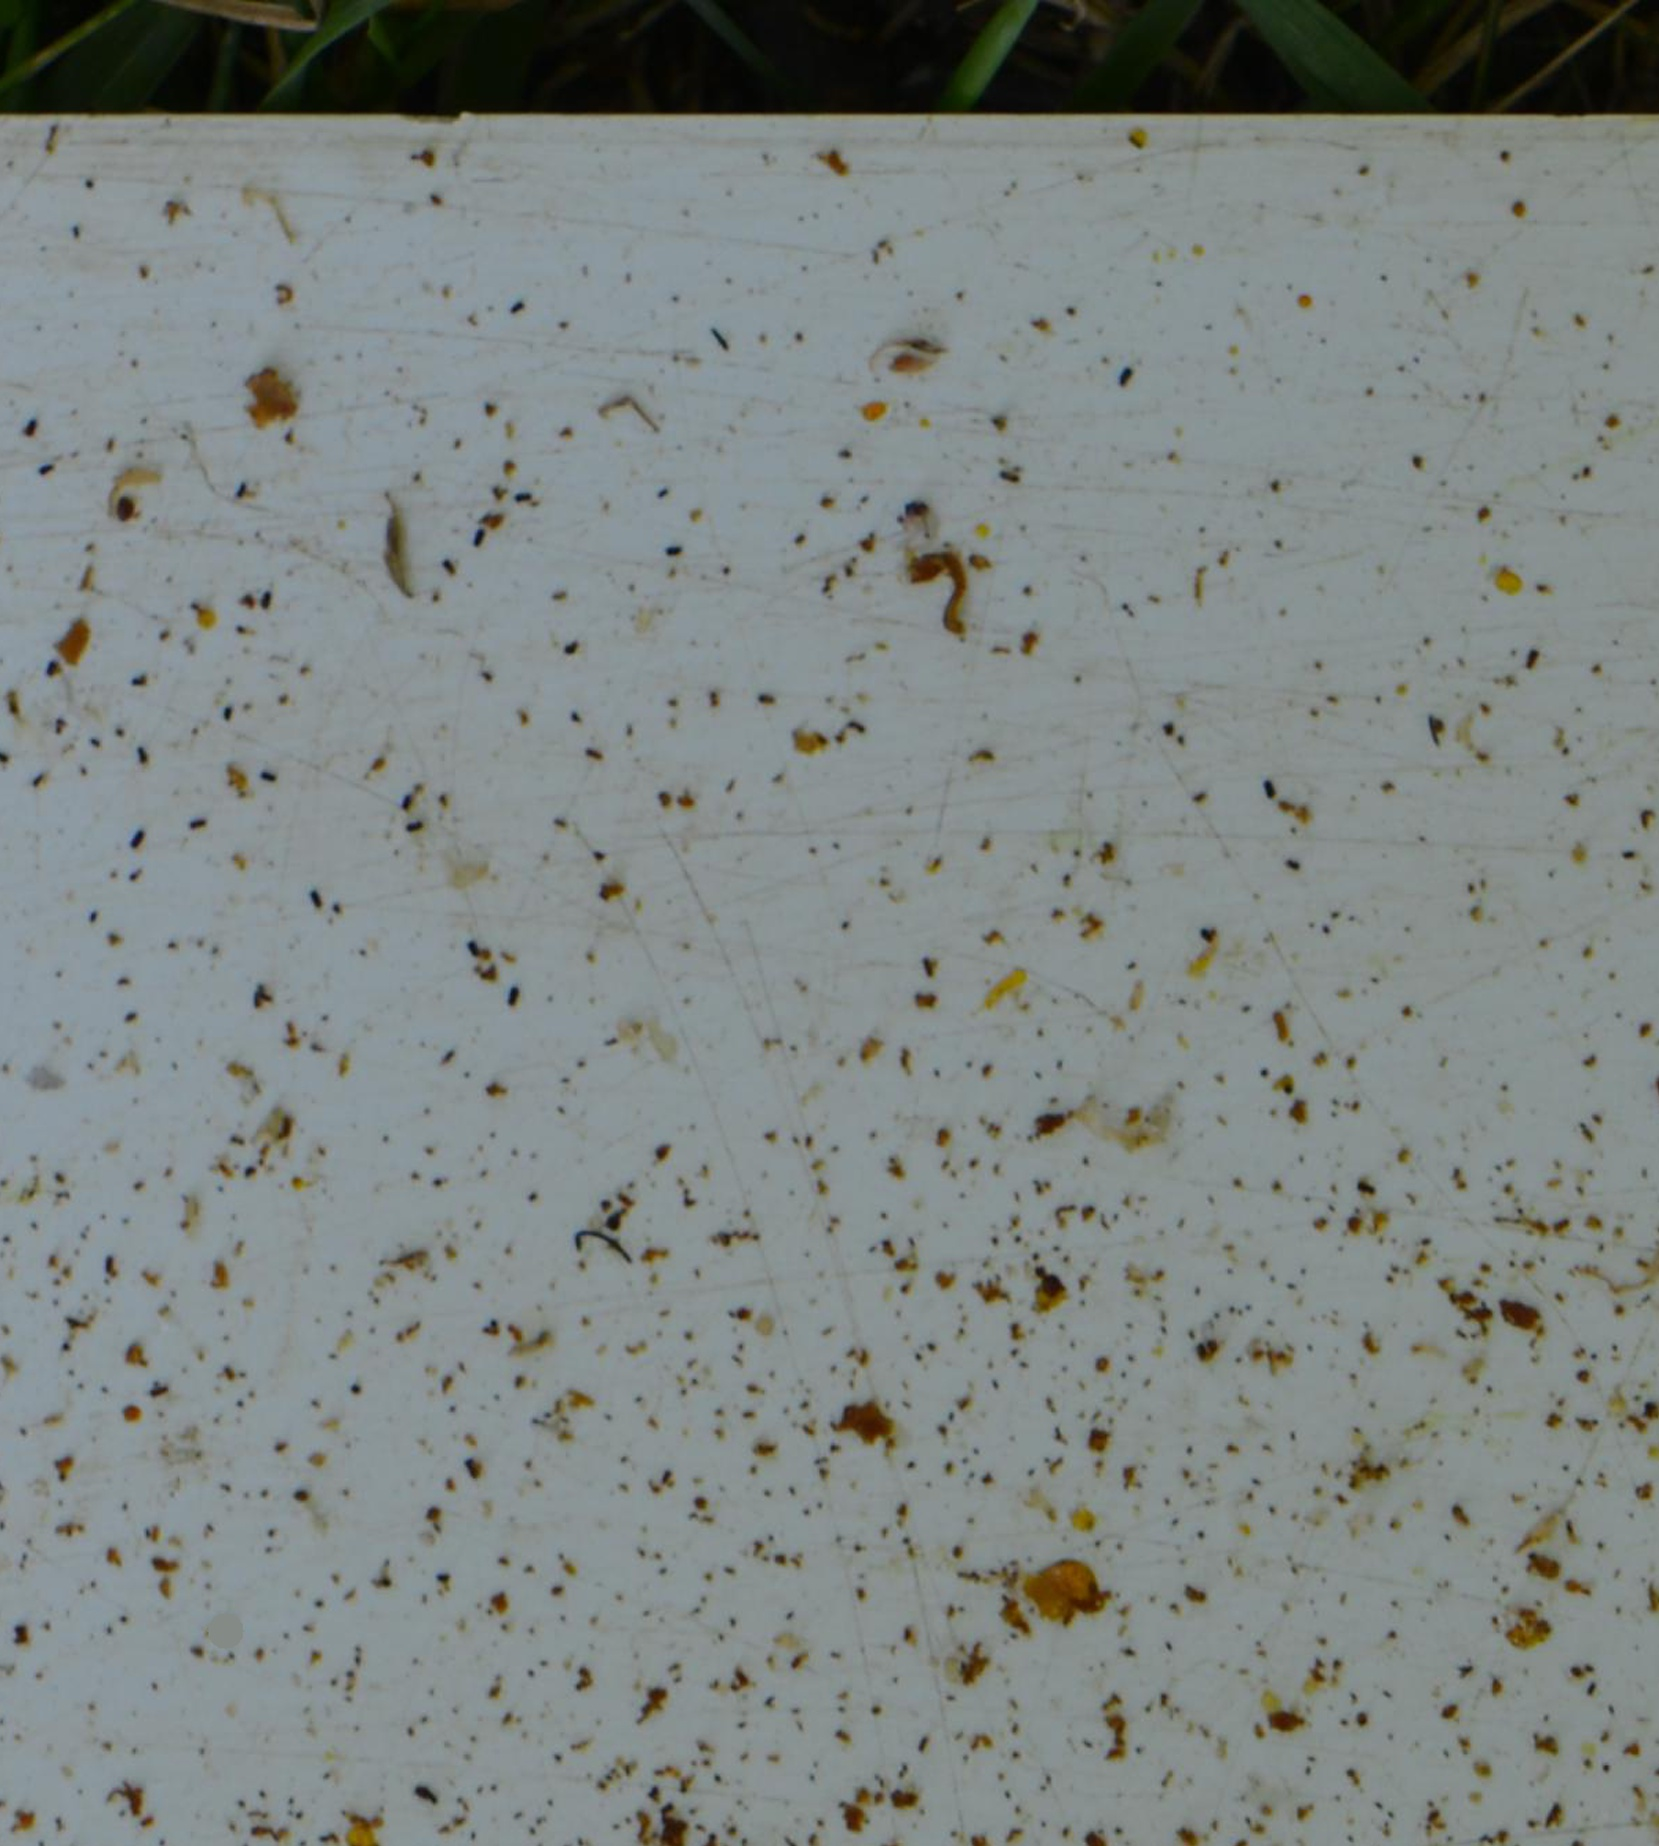Varroa: (110, 493, 139, 524)
